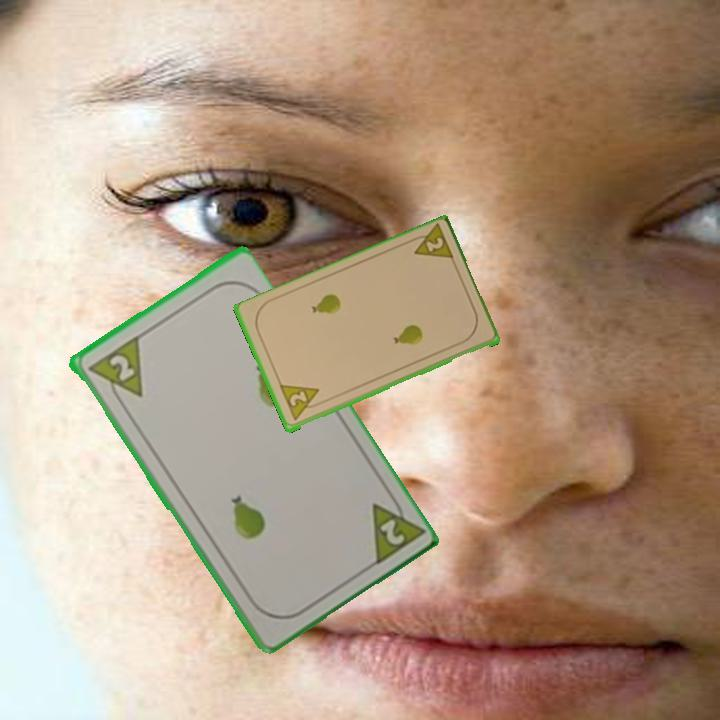2p: (84, 333, 146, 411), (367, 488, 425, 569), (404, 222, 457, 265), (276, 381, 326, 424)
